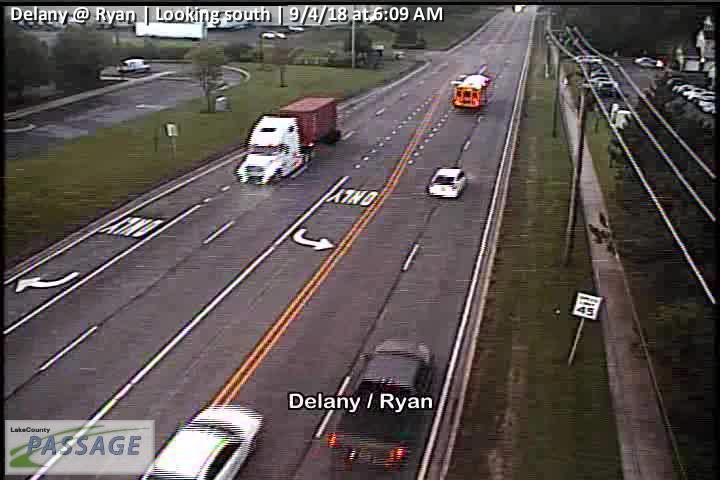Bus: (452, 73, 493, 109)
SUV: (427, 166, 468, 198), (117, 55, 151, 73)
Sedan: (326, 336, 433, 471), (136, 405, 264, 480)
Truck: (237, 96, 339, 185)
